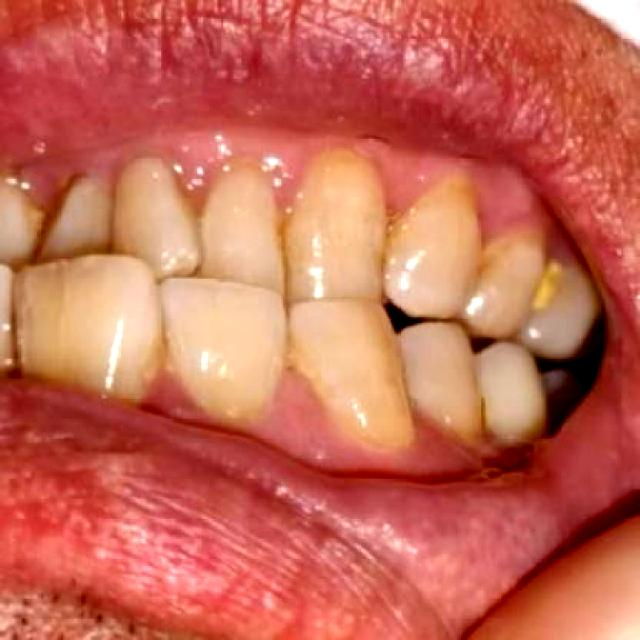Plaque: (262, 362, 356, 448), (168, 144, 225, 222), (271, 144, 321, 225), (476, 178, 534, 246), (376, 166, 443, 219), (20, 165, 74, 216), (143, 361, 198, 411), (414, 411, 464, 452), (89, 156, 122, 198)
